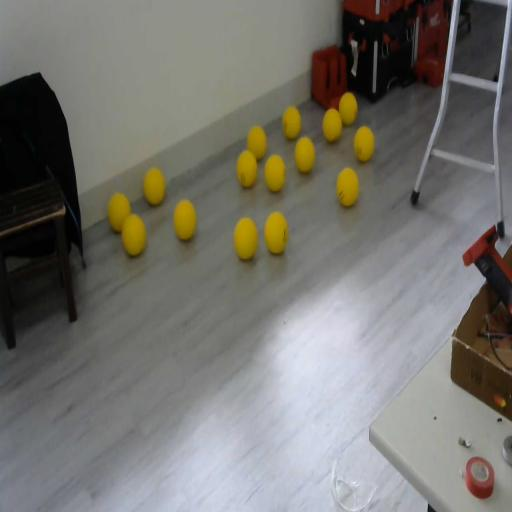FUEL: (120, 212, 146, 257), (233, 215, 258, 261), (172, 198, 198, 241), (264, 210, 288, 254), (336, 166, 359, 208), (142, 166, 166, 206), (264, 153, 286, 193), (294, 135, 316, 175), (246, 124, 268, 162), (236, 150, 258, 188), (353, 125, 375, 162), (322, 107, 342, 143), (338, 91, 358, 125), (282, 106, 301, 139)
